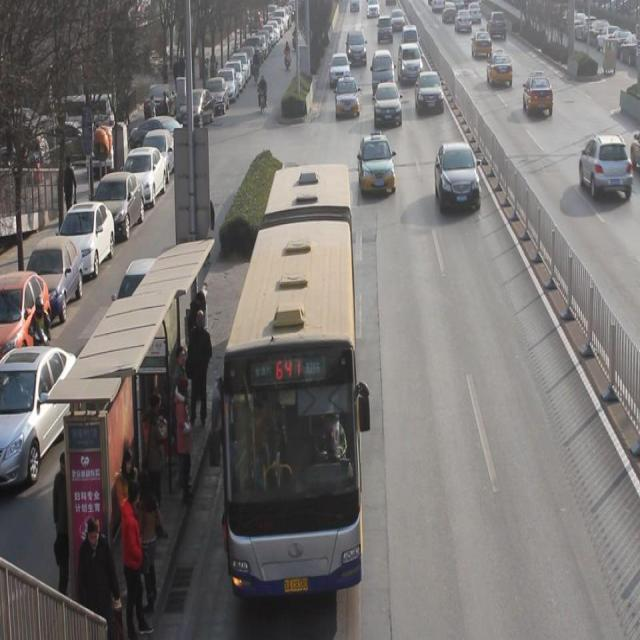car: (577, 133, 640, 202), (435, 142, 482, 215), (357, 134, 395, 195), (523, 73, 555, 118), (414, 70, 445, 114), (374, 82, 403, 128), (398, 42, 423, 82), (486, 50, 513, 87), (336, 74, 359, 117), (345, 30, 367, 65), (328, 54, 351, 86), (471, 29, 492, 56)
truck: (371, 50, 394, 91), (401, 24, 419, 52)
van: (224, 162, 361, 592)
